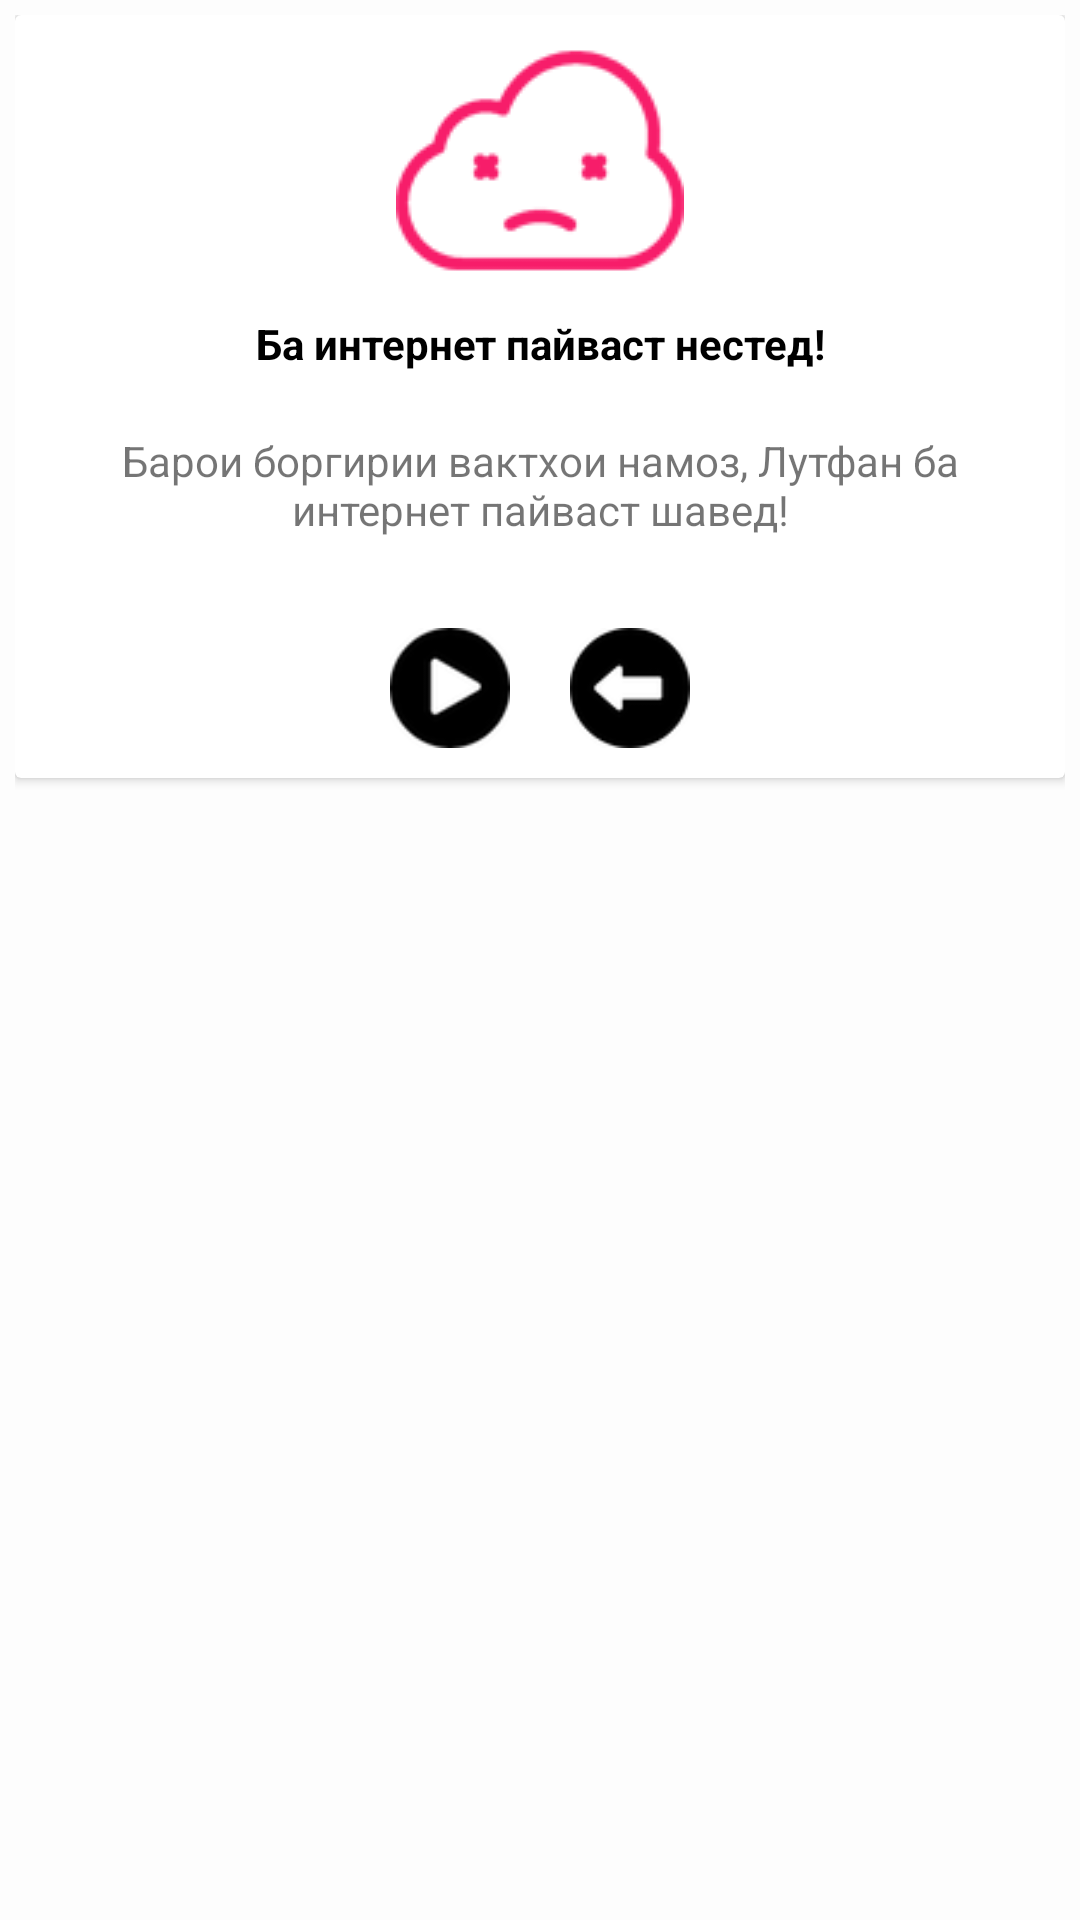

Screen size 1080×1920. Icon name, then its center in pixels as (x=x, y=y):
back: (x=630, y=688)
play: (x=450, y=688)
